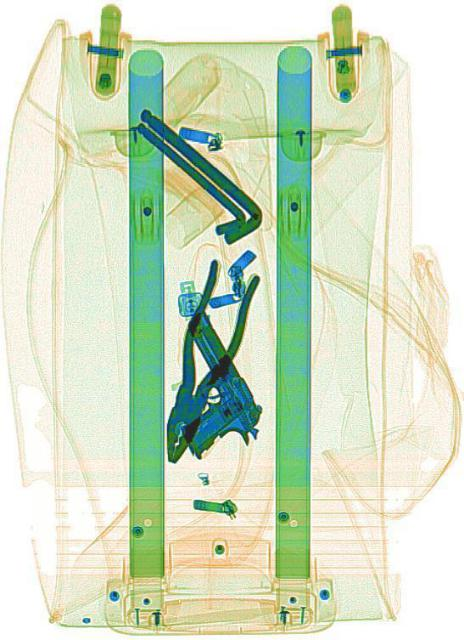Gun: (139, 304, 269, 482)
Pliers: (143, 248, 261, 476)
